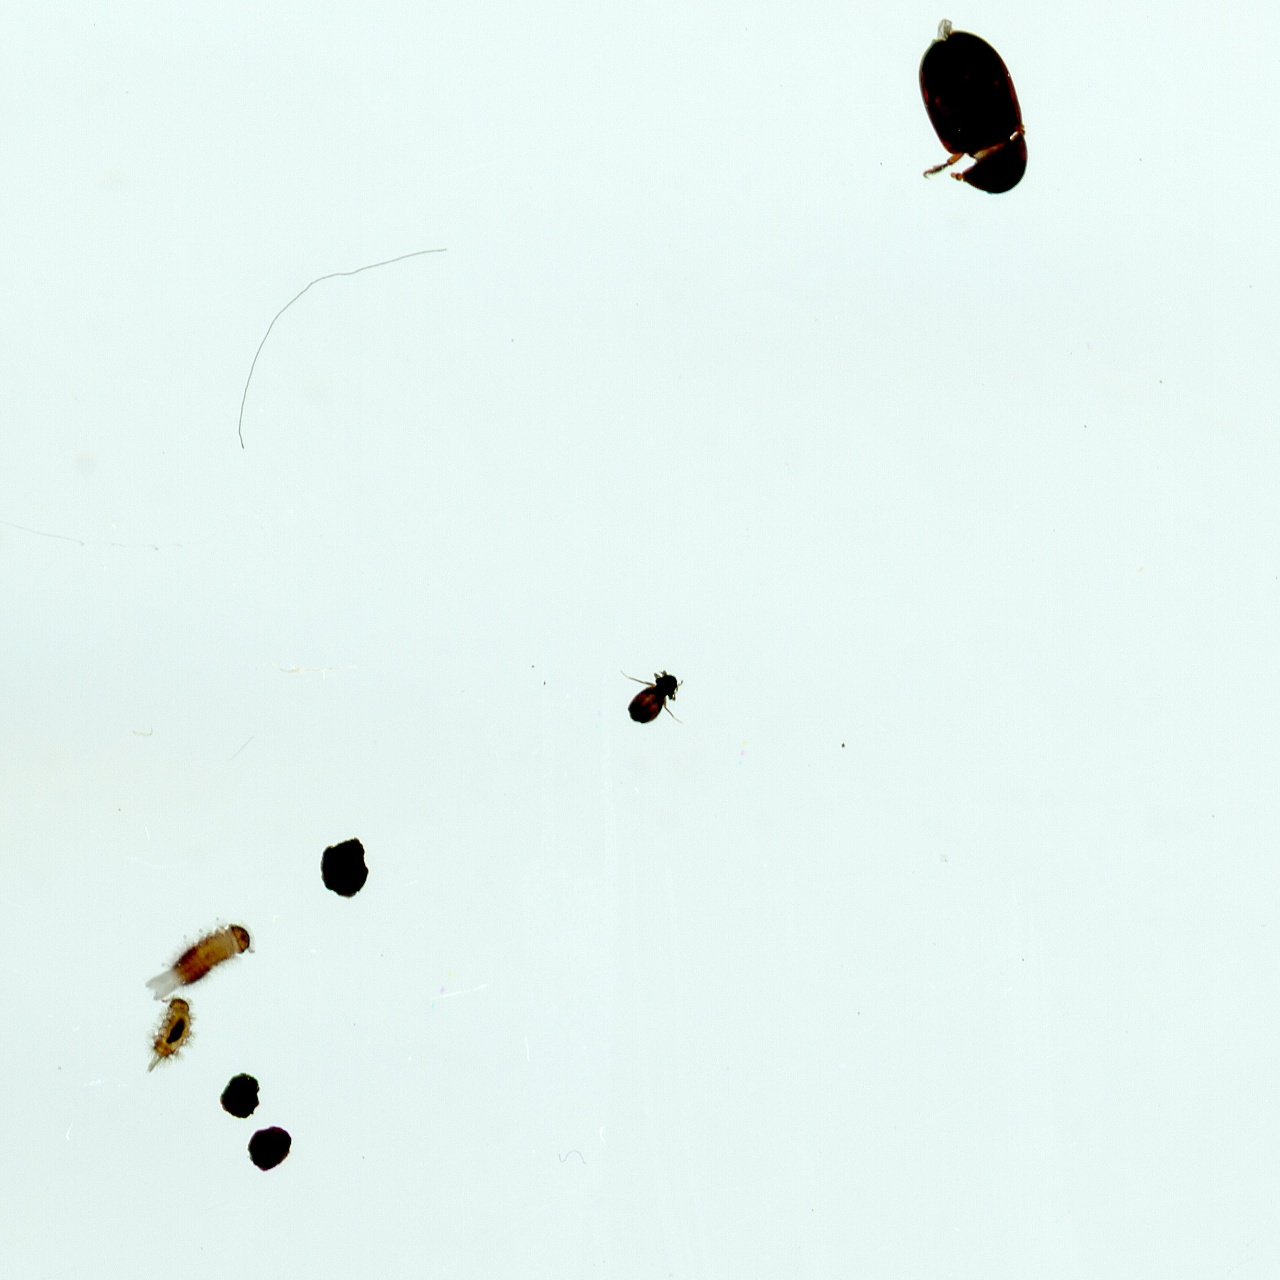arthropod: (912, 21, 1039, 204), (141, 919, 258, 996), (141, 999, 196, 1078), (620, 667, 686, 731)
